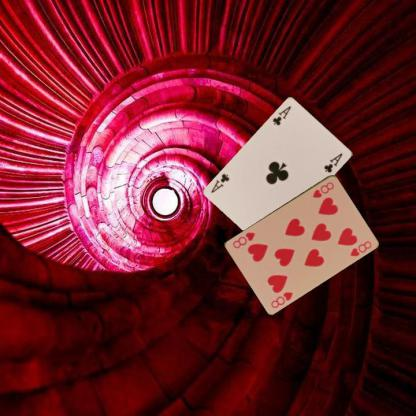8h: (268, 289, 294, 309), (310, 179, 335, 199)
Ac: (270, 104, 292, 127)
